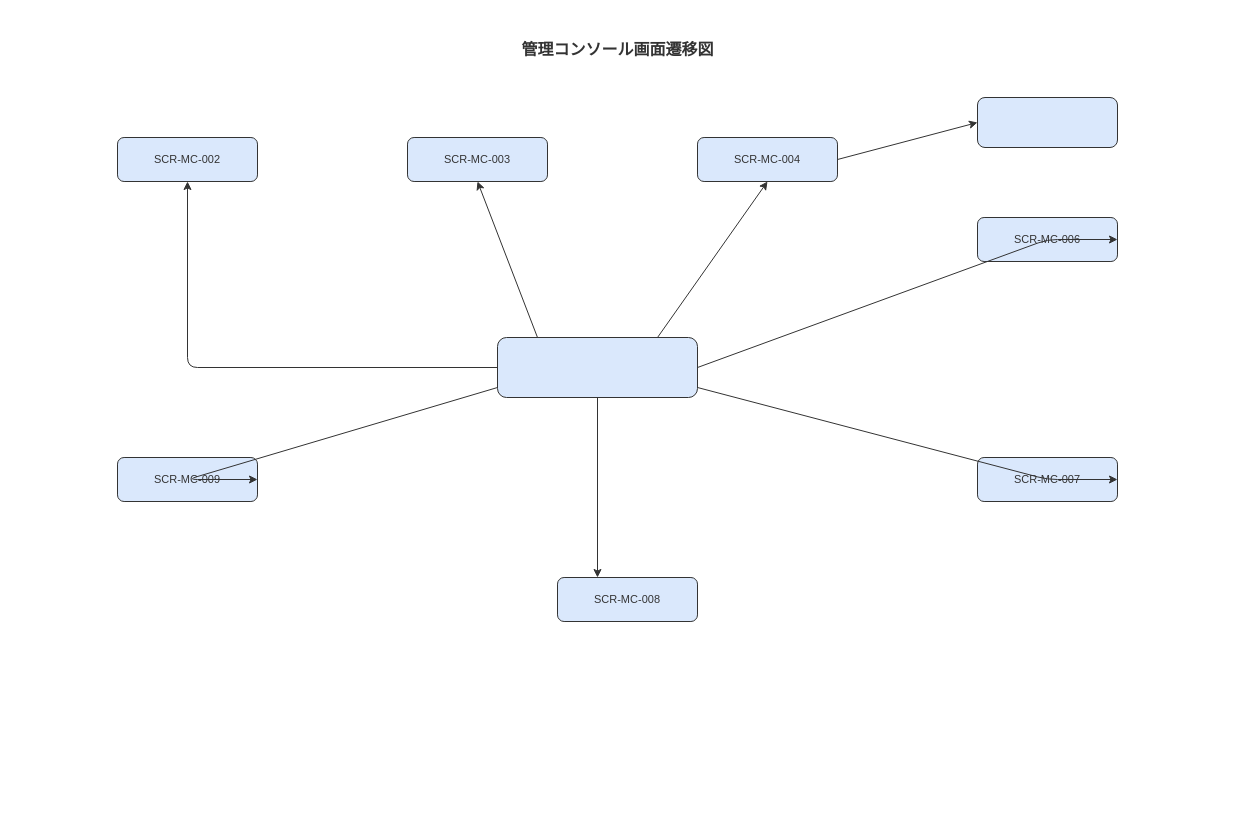
Image size: 1234x834. Some labels were removed from this diagram. Here are the shapes that lost their labels. From the top down, the box of each, then its label:
(976, 96, 1118, 148): SCR-MC-005 XESエクスポート
(496, 336, 698, 398): SCR-MC-001 ダッシュボード
